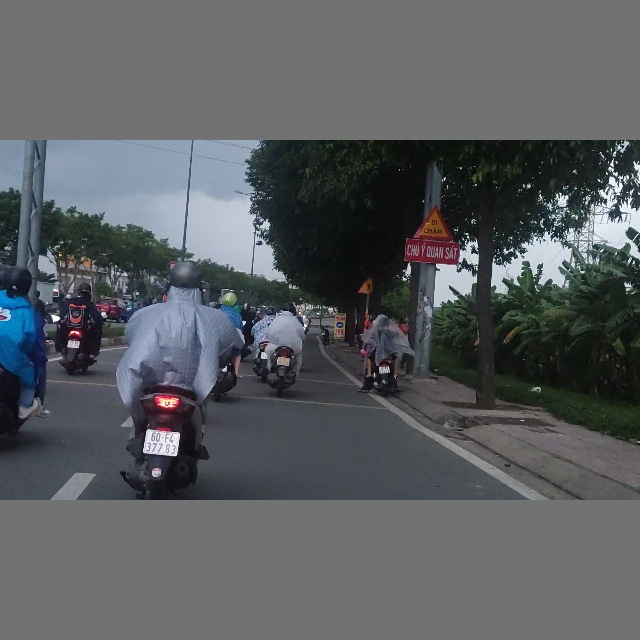W.245a: (413, 205, 453, 241)
